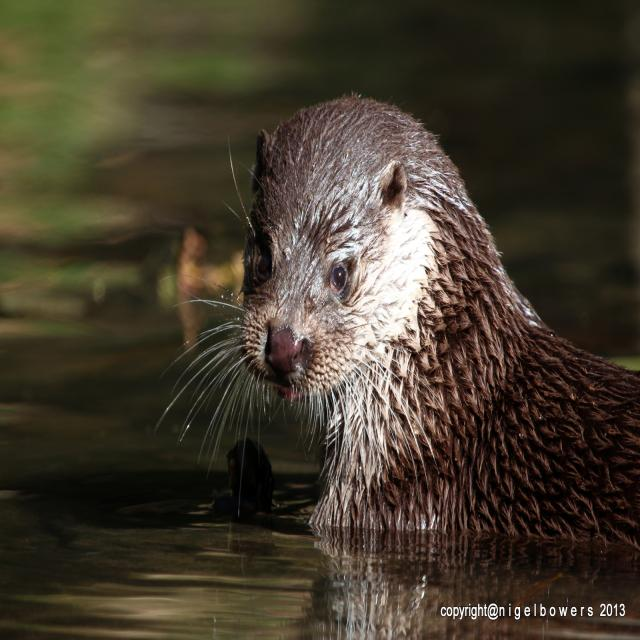otter: (240, 97, 537, 537)
